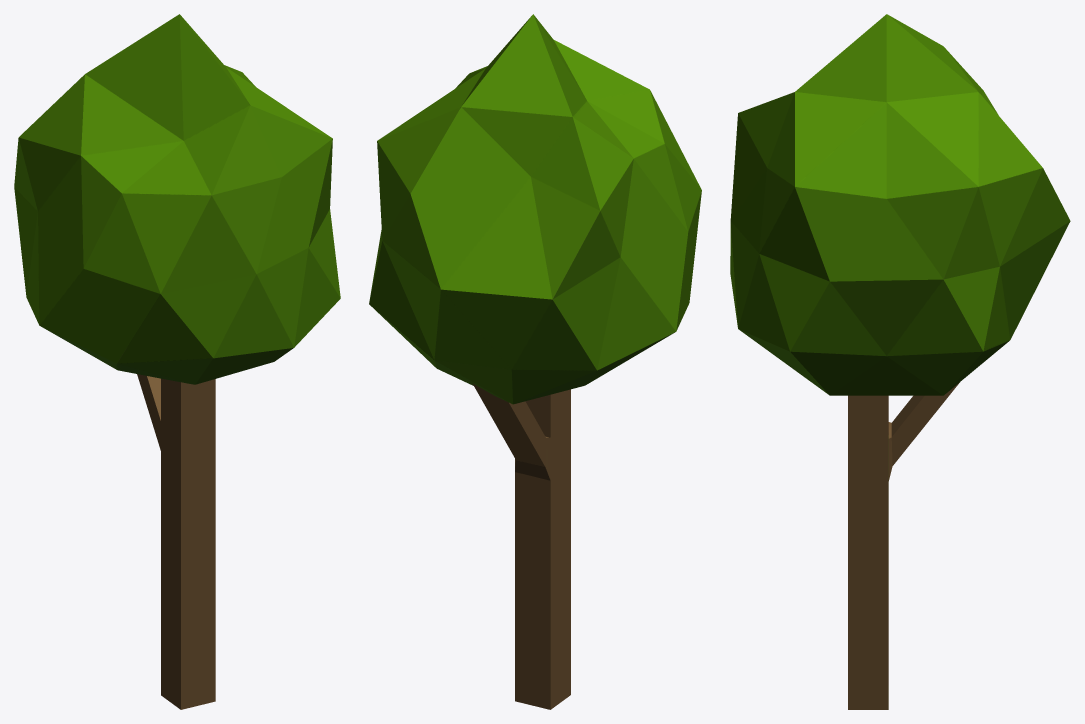
File: tree.obj
The picture shows the model from 3 angles, left to right: view 1: azimuth 30°, elevation 25°; view 2: azimuth 150°, elevation 25°; view 3: azimuth 270°, elevation 25°; orthographic projection.
Visible parts, largest first — view 1: Icosphere; view 2: Icosphere; view 3: Icosphere.
Part boxes in pixels (x1,y1,x2,y2): Icosphere: (14,14,340,709); Icosphere: (369,14,701,709); Icosphere: (730,14,1070,709).
Size of the model in its own units: 15.07 by 37.15 by 16.66.
